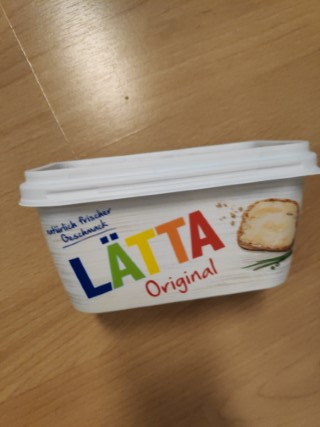laetta: (17, 137, 320, 317)
